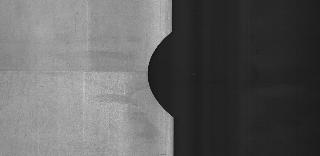welding line: (2, 67, 152, 79)
